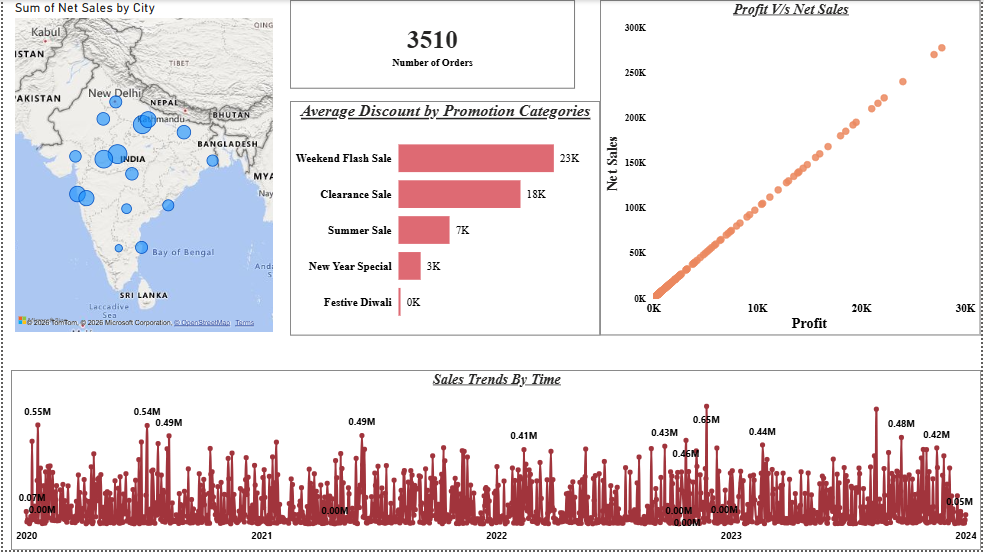

Layout of this report page (visuals, bound fields, positions):
{"tool":"powerbi","page":{"name":"Overview","canvas":[1280,720],"ordinal":1},"visuals":[{"type":"lineChart","title":"Sales Trends By Time","fields":{"Y":["Sum(Fact Table.Net Sales  )"],"Category":["Fact Table.Date (dd/mm/yyyy).Variation.Date Hierarchy.Year"]},"box":[10.5,484.4,1269.8,235.6],"z":0},{"type":"scatterChart","title":"Profit V/s Net Sales  ","fields":{"X":["Fact Table.Profit"],"Y":["Fact Table.Net Sales  "]},"box":[781.7,0,498.1,439.3],"z":1},{"type":"barChart","title":"Average Discount by Promotion  Categories","fields":{"Y":["Avg(Fact Table.Discount)"],"Category":["Dim Promotion.Promotion Name"]},"box":[376.2,132.2,405.6,307.1],"z":2},{"type":"map","fields":{"Category":["Dim Customers.City"],"Size":["Sum(Fact Table.Net Sales  )"]},"box":[10.3,0,348.2,439.3],"z":3},{"type":"card","fields":{"Values":["Count(Fact Table.Order ID)"]},"box":[376.2,0,373.2,116.1],"z":4}]}

Visuals, with their boxes in screenshot pixels (x1, y1, x2, y2), scaled from the page's 1280x720 canvas onto the 984x557 screenshot:
"Sales Trends By Time" lineChart: {"x1": 8, "y1": 375, "x2": 983, "y2": 556}
"Profit V/s Net Sales  " scatterChart: {"x1": 601, "y1": 0, "x2": 983, "y2": 340}
"Average Discount by Promotion  Categories" barChart: {"x1": 289, "y1": 102, "x2": 601, "y2": 340}
map - Dim Customers.City x Sum(Fact Table.Net Sales  ): {"x1": 8, "y1": 0, "x2": 276, "y2": 340}
card - Count(Fact Table.Order ID): {"x1": 289, "y1": 0, "x2": 576, "y2": 90}
